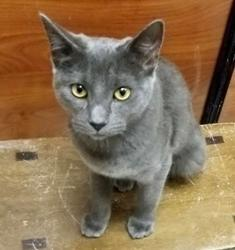rblue: (36, 8, 179, 159)
